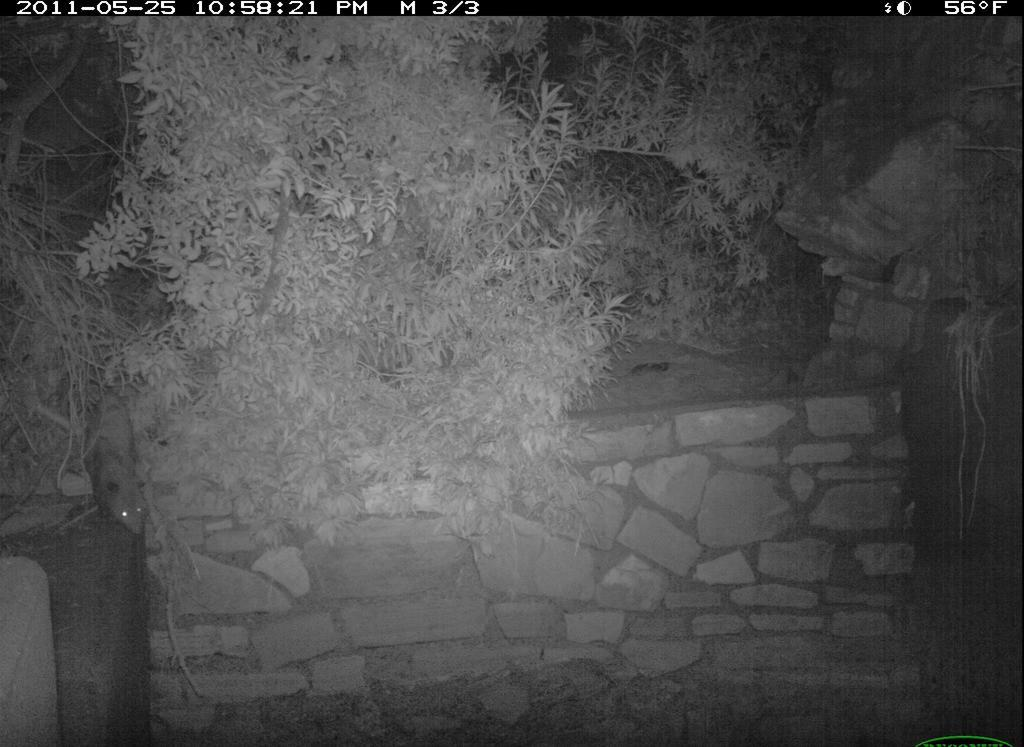opossum: (88, 381, 155, 547)
